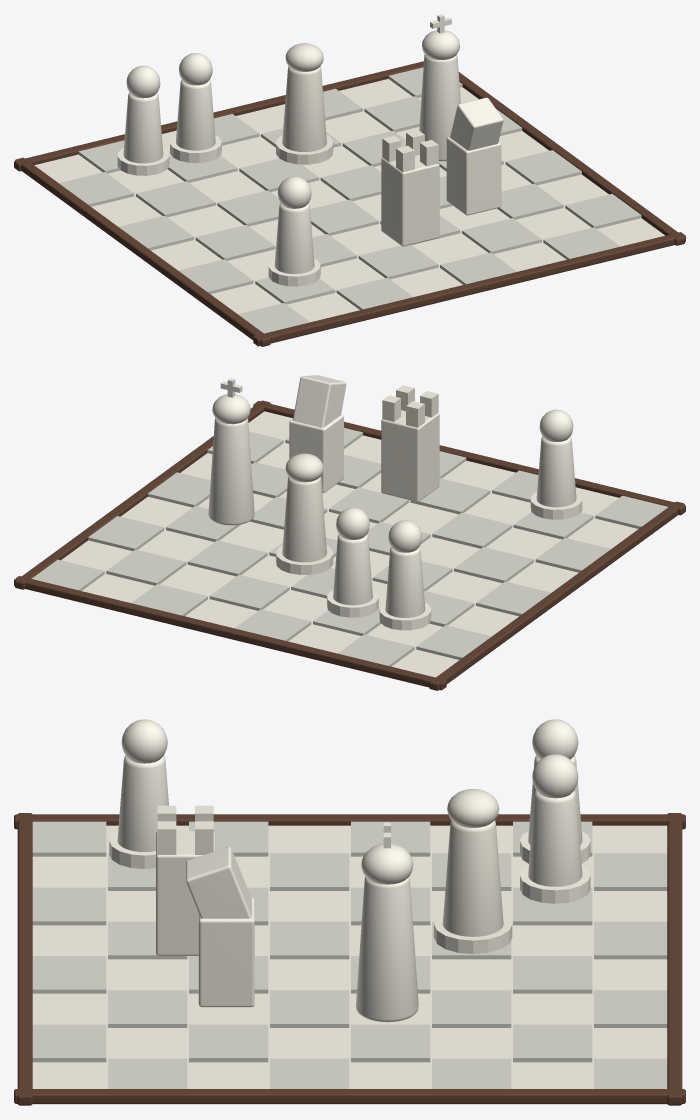
The model's file is game_giant_chess.glb.
3 views of the same model, one above another, from view 1: azimuth 30°, elevation 25°; view 2: azimuth 150°, elevation 25°; view 3: azimuth 270°, elevation 25° (orthographic). The views are drawn at different scales.
Parts seen in each view (by area): view 1: Tint.020, Chess mat, Mat border.001, Rook body, Mat border.002, Knight body, Queen body, King body, Mat border.003, Mat border, Pawn body, Pawn body.001 (+11 smaller); view 2: Tint.020, Chess mat, Mat border, Rook body, King body, Mat border.002, Queen body, Knight body, Mat border.003, Pawn body.002, Pawn body.001, Pawn body (+11 smaller); view 3: Tint.020, Chess mat, Mat border.003, King body, Queen body, Knight body, Mat border.002, Mat border.001, Mat border, Rook body, Pawn body.001, Pawn body.002 (+11 smaller).
Boxes of the visible parts, x1,y1,x2,y2 form: Tint.020: [59, 67, 641, 333]; Chess mat: [34, 79, 664, 322]; Mat border.001: [253, 232, 685, 346]; Rook body: [381, 154, 439, 246]; Mat border.002: [15, 157, 270, 346]; Knight body: [446, 136, 501, 215]; Queen body: [282, 66, 326, 151]; King body: [419, 54, 460, 161]; Mat border.003: [458, 72, 684, 245]; Mat border: [14, 61, 423, 171]; Pawn body: [123, 92, 163, 163]; Pawn body.001: [176, 79, 215, 150]; Tint.020: [31, 427, 668, 666]; Chess mat: [61, 411, 638, 677]; Mat border: [14, 576, 446, 690]; Rook body: [381, 410, 439, 501]; King body: [208, 418, 254, 525]; Mat border.002: [429, 501, 684, 690]; Queen body: [282, 476, 326, 562]; Knight body: [289, 414, 343, 492]; Mat border.003: [15, 400, 270, 589]; Pawn body.002: [536, 436, 576, 507]; Pawn body.001: [333, 534, 372, 605]; Pawn body: [385, 547, 425, 617]; Tint.020: [32, 821, 667, 1088]; Chess mat: [32, 825, 667, 1104]; Mat border.003: [14, 1089, 685, 1103]; King body: [356, 877, 418, 1022]; Queen body: [442, 820, 503, 936]; Knight body: [198, 897, 254, 1007]; Mat border.002: [14, 814, 685, 829]; Mat border.001: [17, 813, 32, 1105]; Mat border: [667, 813, 682, 1105]; Rook body: [156, 831, 215, 955]; Pawn body.001: [528, 790, 582, 886]; Pawn body.002: [117, 756, 168, 851].
Size of the model in its own units: 1.8 by 0.63 by 1.8.
